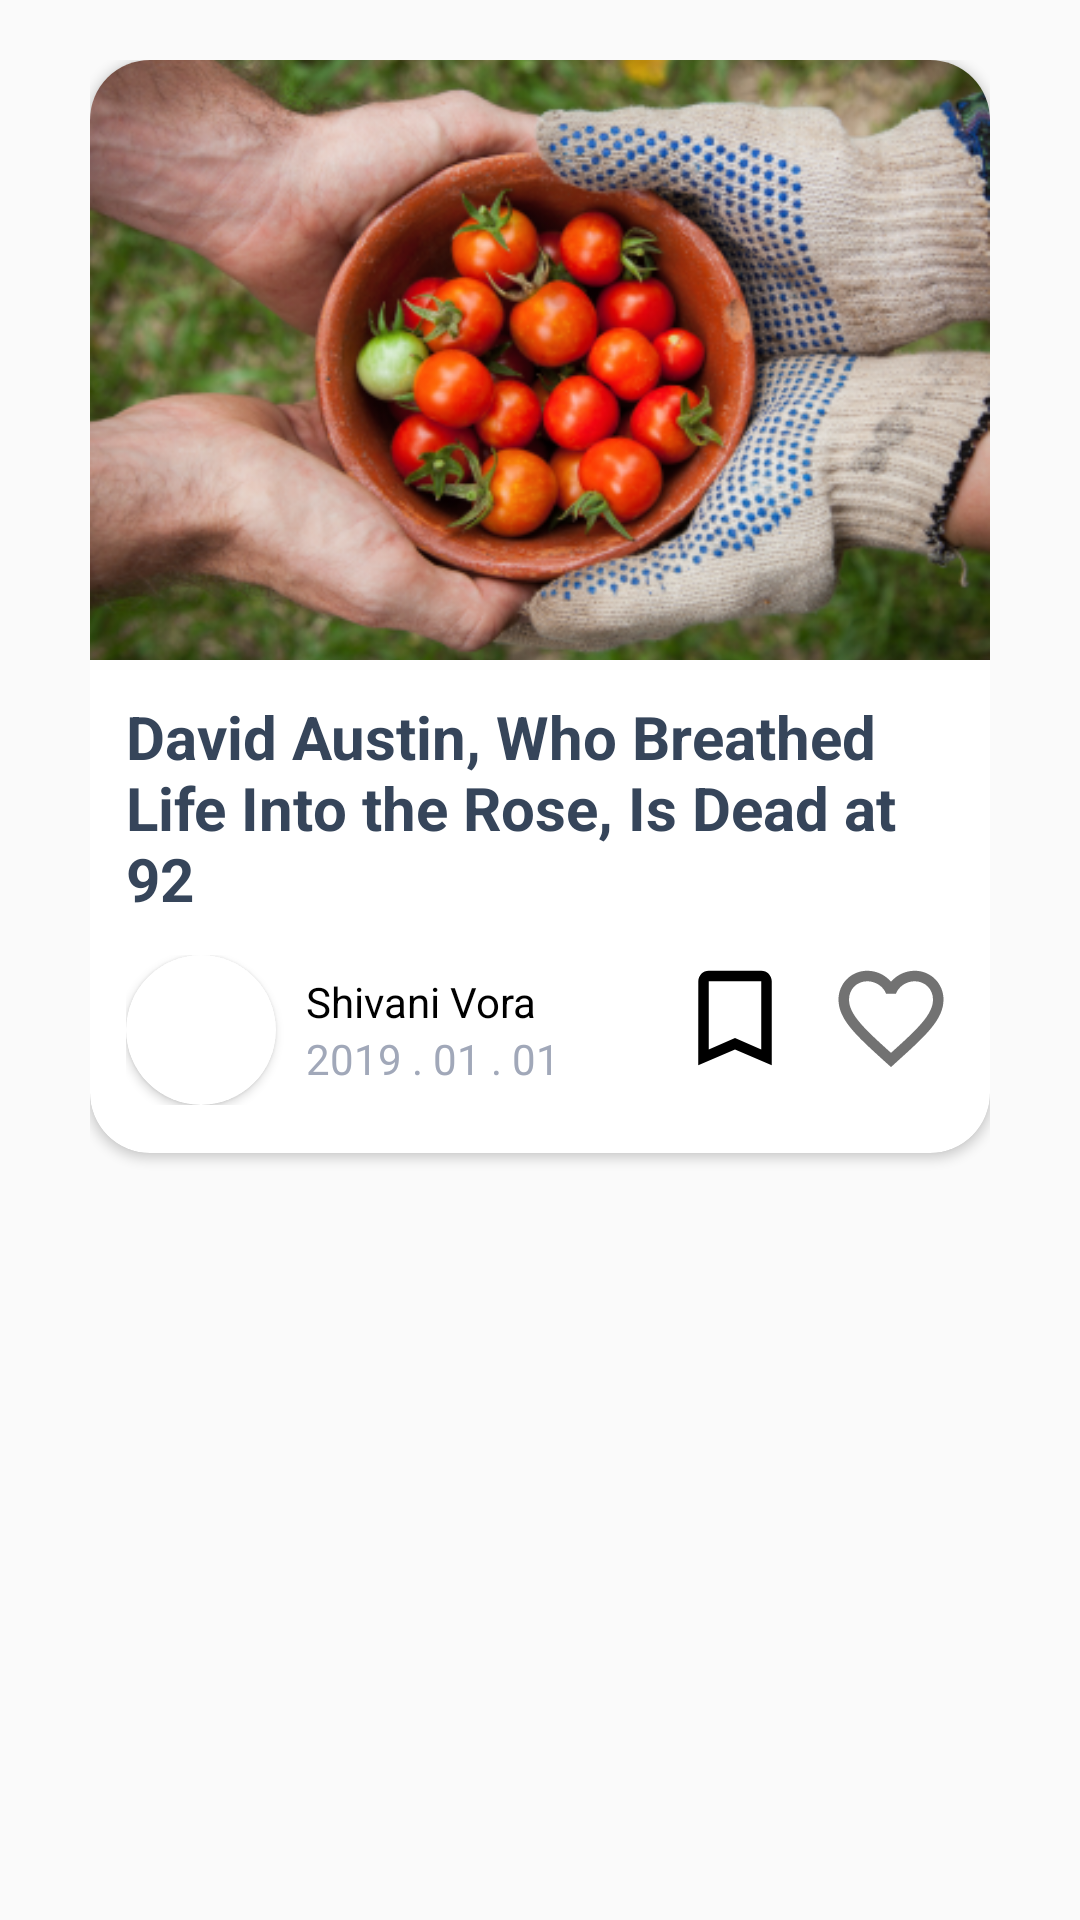

Where to tap for icons on this 1080 × 1920 app screen, as [x,y]:
bookmark: [735,1017]
wishlist item: [891,1018]
